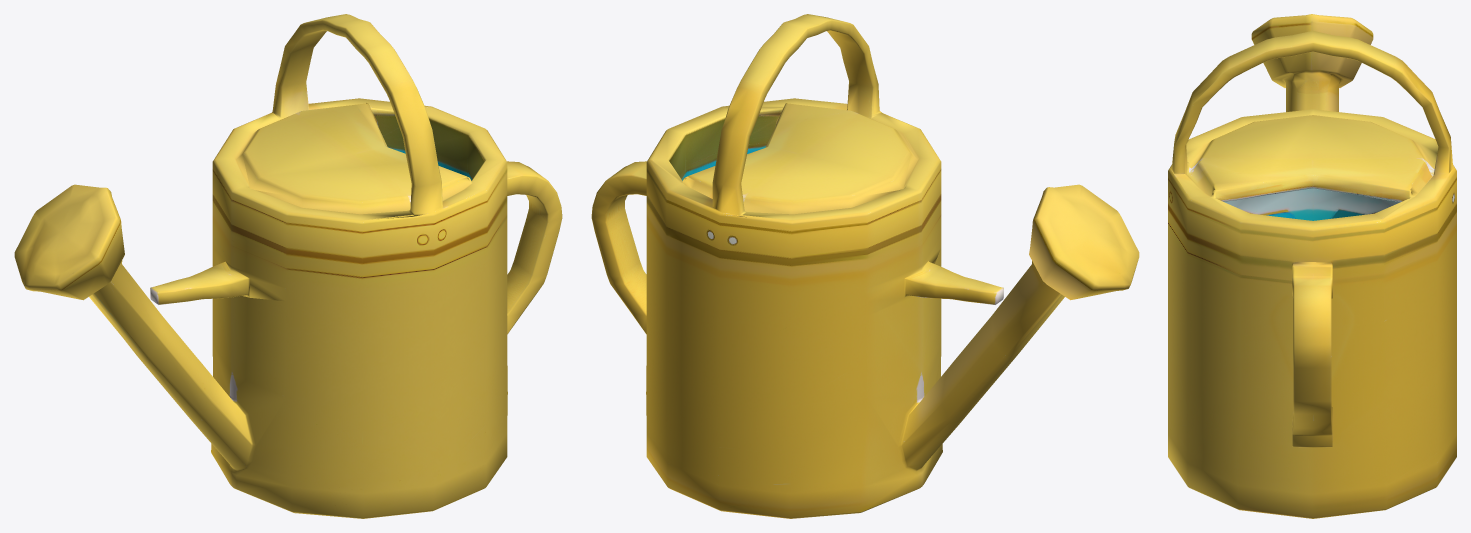
Rendered from Watering_Gold.fbx.
3 views of the same model, side by side, from view 1: azimuth 30°, elevation 25°; view 2: azimuth 150°, elevation 25°; view 3: azimuth 270°, elevation 25° (orthographic). The views are drawn at different scales.
Visible parts, largest first — view 1: Mesh_0; view 2: Mesh_0; view 3: Mesh_0.
Part boxes in pixels (box(x1,y1,x2,y2)): Mesh_0: box(14, 14, 562, 518); Mesh_0: box(591, 14, 1139, 518); Mesh_0: box(1168, 14, 1456, 518).
Bounding box in the file's own units: 190 × 148 × 91.98.
1 material, 1 textured.
